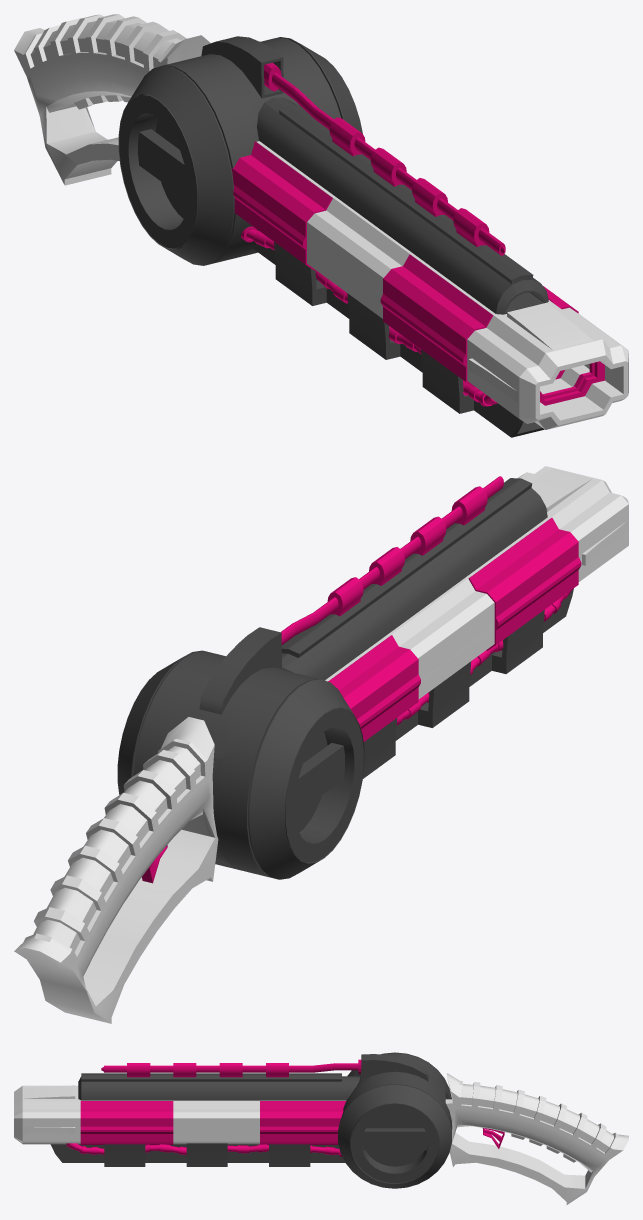
3 views of the same model, one above another, from view 1: azimuth 30°, elevation 25°; view 2: azimuth 150°, elevation 25°; view 3: azimuth 270°, elevation 25° (orthographic). The views are drawn at different scales.
Visible parts, largest first — view 1: pCylinder1, polySurface4, pCube2, pCylinder2, polySurface3, polySurface2, pCylinder3, extrudedSurface1, polySurface5; view 2: pCylinder1, pCube2, pCylinder2, polySurface4, polySurface3, polySurface2, pCylinder3, extrudedSurface1; view 3: pCylinder1, pCube2, polySurface4, pCylinder2, polySurface3, polySurface2, pCylinder3, extrudedSurface1.
Boxes of the visible parts, <box> form: pCylinder1: <box>118,36,544,437</box>; polySurface4: <box>257,141,628,429</box>; pCube2: <box>14,14,210,185</box>; pCylinder2: <box>257,97,548,314</box>; polySurface3: <box>380,254,493,387</box>; polySurface2: <box>231,141,332,270</box>; pCylinder3: <box>264,63,505,255</box>; extrudedSurface1: <box>246,229,497,406</box>; polySurface5: <box>540,361,604,405</box>; pCylinder1: <box>117,588,573,879</box>; pCube2: <box>14,717,218,1023</box>; pCylinder2: <box>281,478,547,680</box>; polySurface4: <box>325,466,628,699</box>; polySurface3: <box>468,518,581,650</box>; polySurface2: <box>328,635,420,741</box>; pCylinder3: <box>281,476,503,644</box>; extrudedSurface1: <box>396,589,572,725</box>; pCylinder1: <box>50,1052,451,1188</box>; pCube2: <box>445,1073,628,1204</box>; polySurface4: <box>14,1085,345,1144</box>; pCylinder2: <box>78,1073,359,1100</box>; polySurface3: <box>80,1101,173,1144</box>; polySurface2: <box>260,1101,346,1144</box>; pCylinder3: <box>101,1059,361,1077</box>; extrudedSurface1: <box>66,1143,339,1155</box>.
Size of the model in its own units: 3.85 by 5.6 by 21.92.
